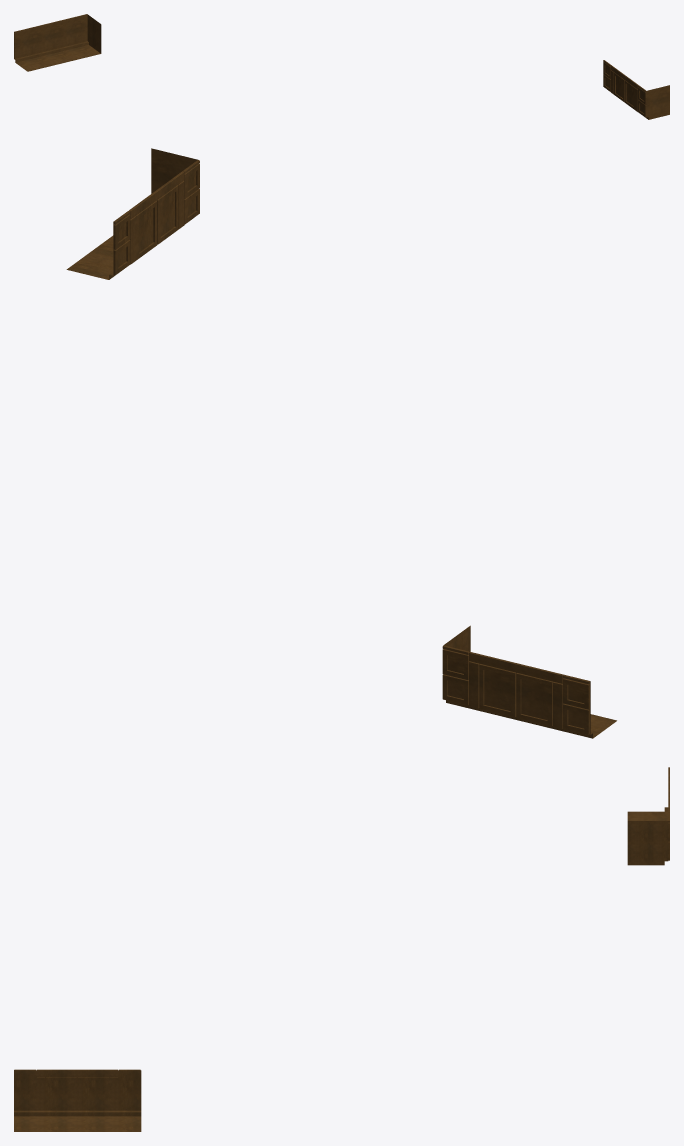
Rendered from Cabinets_Truffle._.glb.
3 renders of one model, top to bottom at view 1: azimuth 30°, elevation 25°; view 2: azimuth 150°, elevation 25°; view 3: azimuth 270°, elevation 25°, orthographic. The views are drawn at different scales.
Parts seen in each view (by area): view 1: Cabinet_truffle; view 2: Cabinet_truffle; view 3: Cabinet_truffle.
Boxes of the visible parts, x1=… form: Cabinet_truffle: x1=14, y1=14, x2=669, y2=119; Cabinet_truffle: x1=66, y1=148, x2=616, y2=738; Cabinet_truffle: x1=14, y1=767, x2=669, y2=1131.
Bounding box in the file's own units: 17 × 1.1 × 14.71.
1 material, 1 textured.
